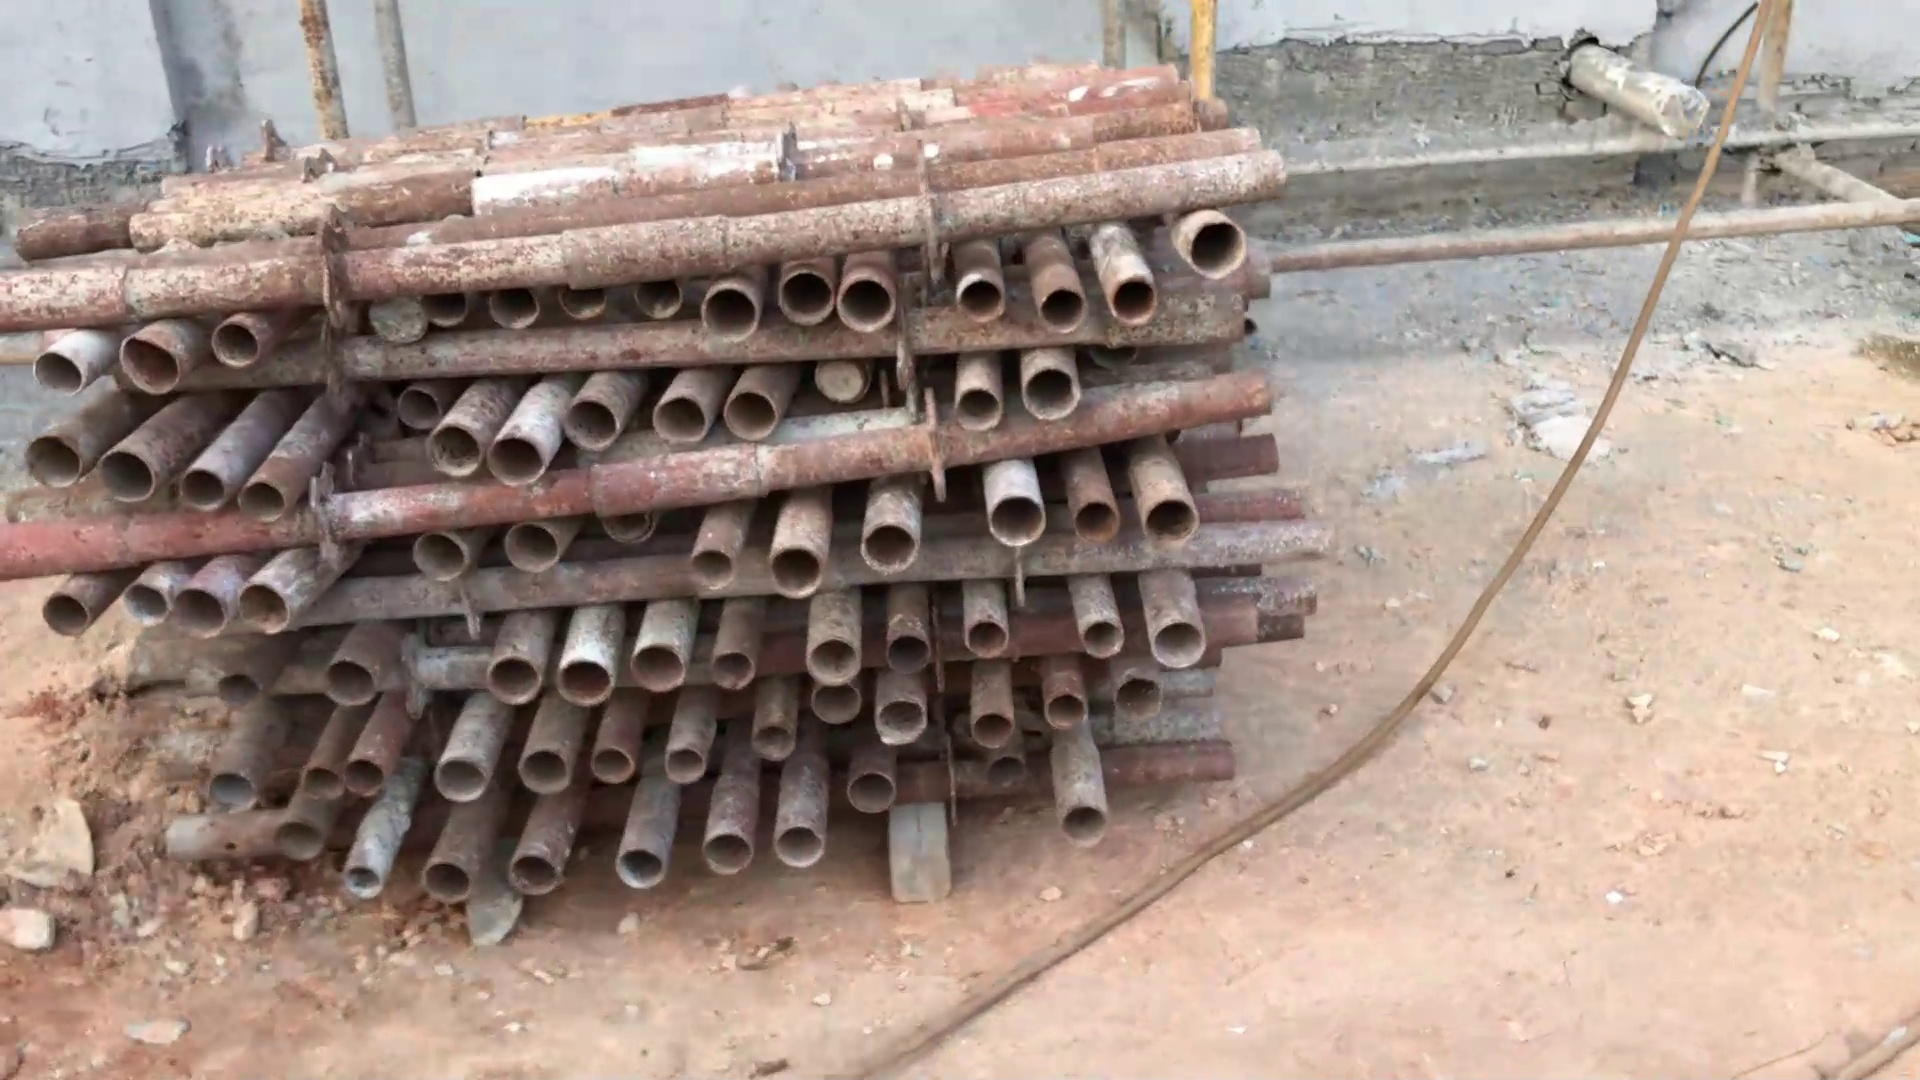scaffold: (1, 33, 1338, 942)
